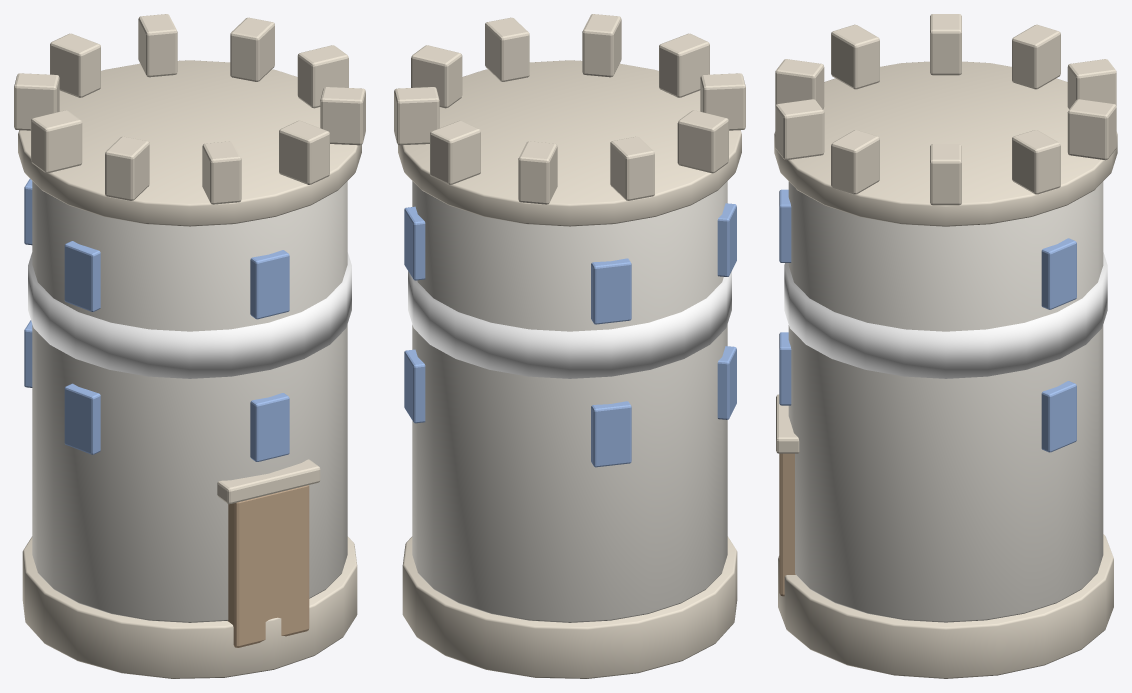
The model's file is lm_portugal_tower.glb.
3 renders of one model, left to right at view 1: azimuth 30°, elevation 25°; view 2: azimuth 150°, elevation 25°; view 3: azimuth 270°, elevation 25°, orthographic.
Parts seen in each view (by area): view 1: lm_portugal_tower; view 2: lm_portugal_tower; view 3: lm_portugal_tower.
Boxes of the visible parts, x1,y1,x2,y2 form: lm_portugal_tower: (14, 14, 365, 678); lm_portugal_tower: (394, 14, 745, 678); lm_portugal_tower: (774, 14, 1117, 678).
Size of the model in its own units: 4.9 by 8.05 by 4.8.
